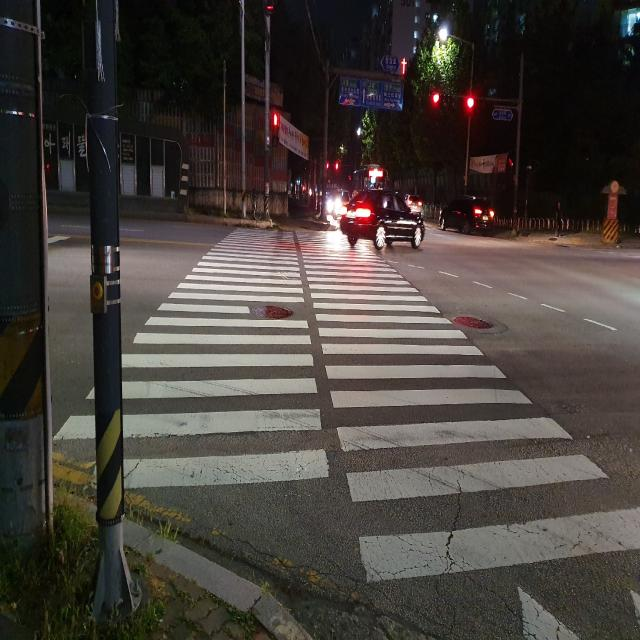빨간불: (273, 114, 282, 149)
횡단보도: (51, 226, 640, 640)
